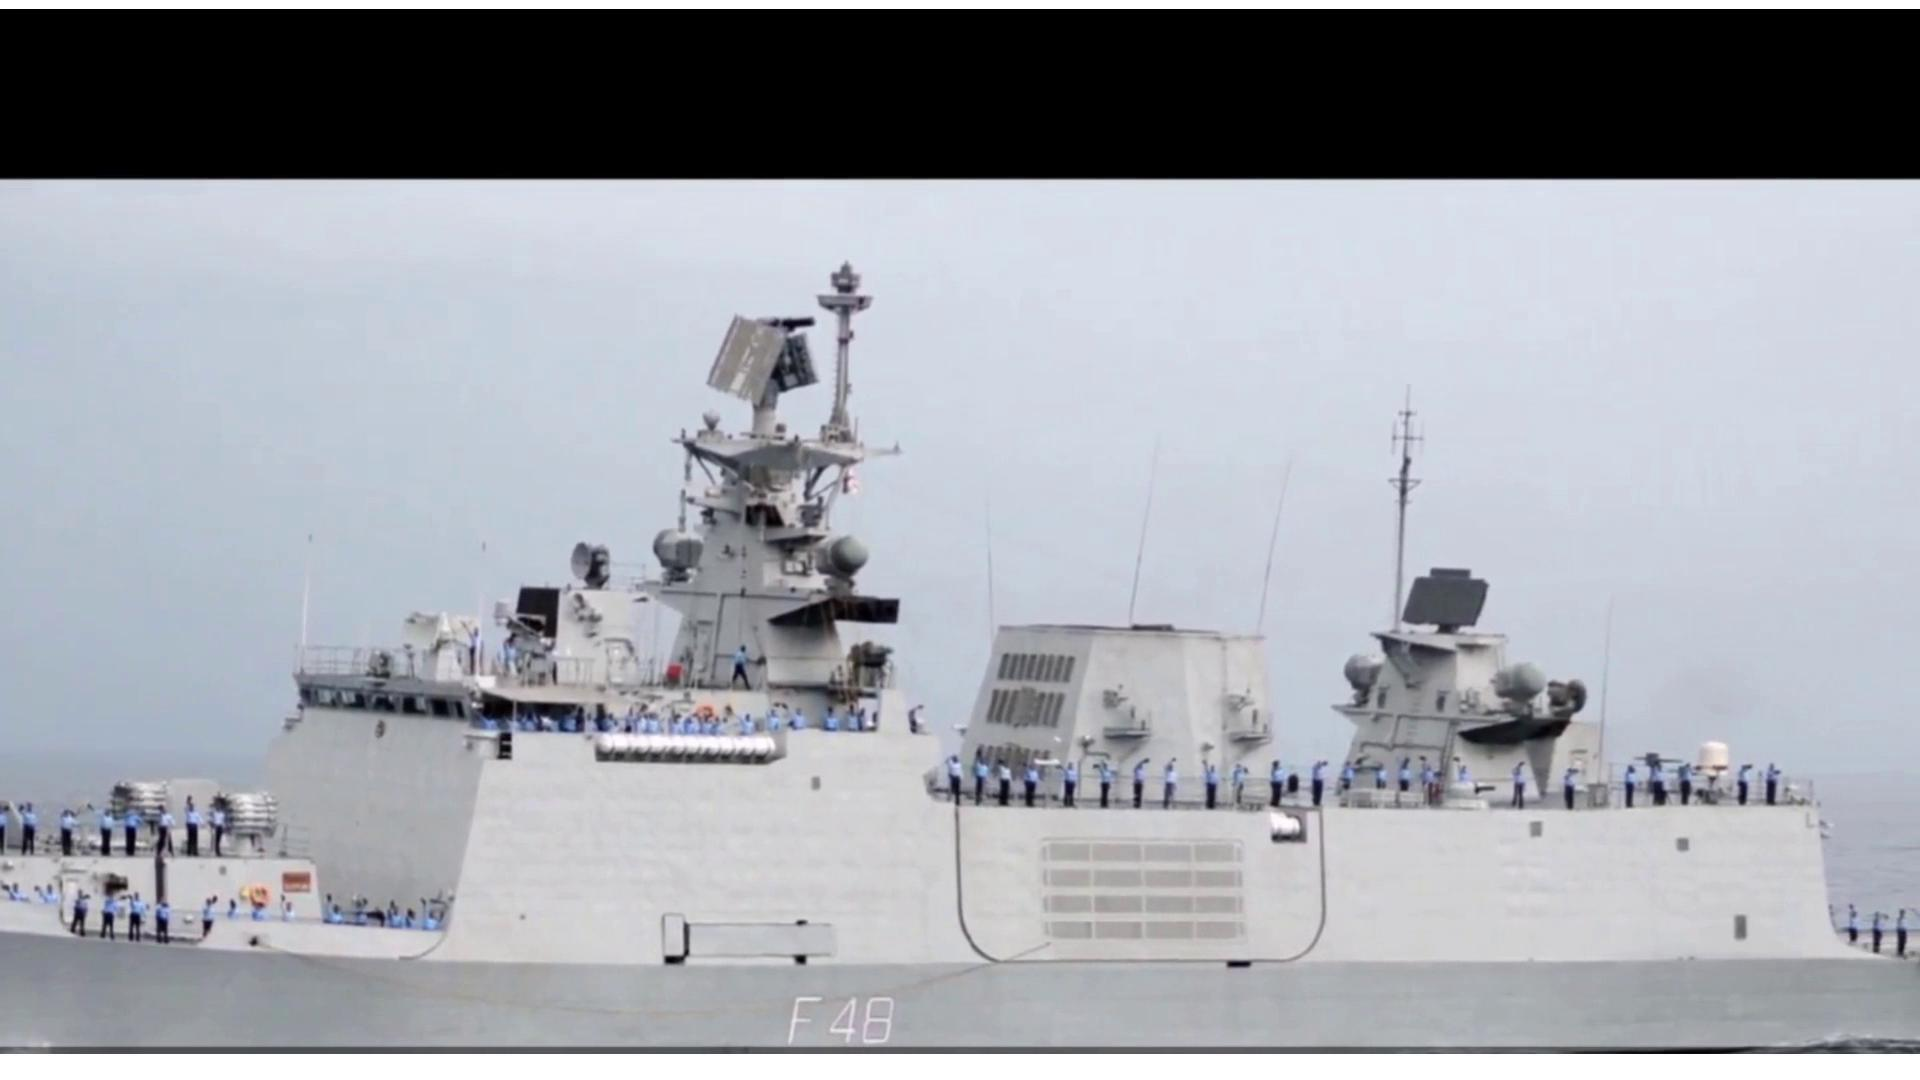OCR: (758, 984, 916, 1046)
